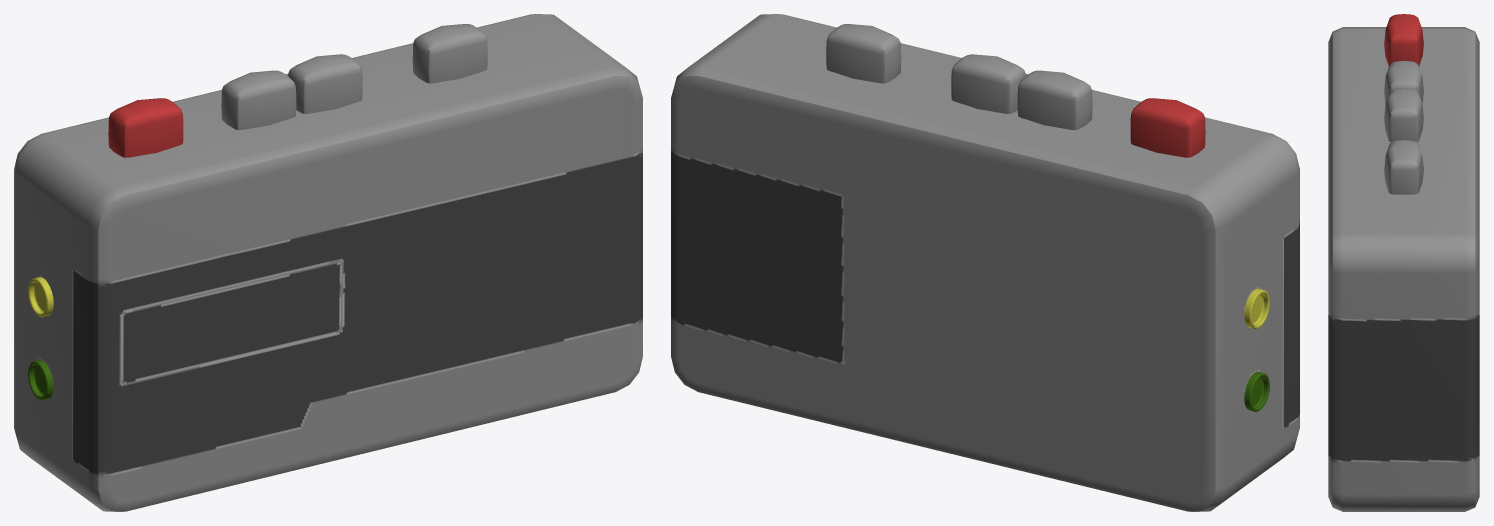
File: recorder_low 3.fbx
The picture shows the model from 3 angles, left to right: view 1: azimuth 30°, elevation 25°; view 2: azimuth 150°, elevation 25°; view 3: azimuth 270°, elevation 25°; orthographic projection. The views are drawn at different scales.
Parts seen in each view (by area): view 1: pCylinder73, pCube441, pCube437, pCube443, pCube442; view 2: pCylinder73, pCube437, pCube441, pCube443, pCube442; view 3: pCylinder73, pCube443, pCube442, pCube437, pCube441.
Part boxes in pixels (x1,y1,x2,y2): pCylinder73: (14, 14, 642, 511); pCube441: (221, 70, 296, 130); pCube437: (108, 98, 183, 157); pCube443: (412, 24, 487, 83); pCube442: (288, 54, 362, 113); pCylinder73: (671, 14, 1299, 511); pCube437: (1130, 98, 1205, 157); pCube441: (1017, 70, 1092, 130); pCube443: (826, 24, 901, 83); pCube442: (951, 54, 1025, 113); pCylinder73: (1328, 27, 1479, 511); pCube443: (1384, 140, 1423, 194); pCube442: (1384, 88, 1423, 142); pCube437: (1384, 14, 1423, 66); pCube441: (1384, 60, 1423, 102).
Bounding box in the file's own units: 0.3524 × 0.2206 × 0.0973.
